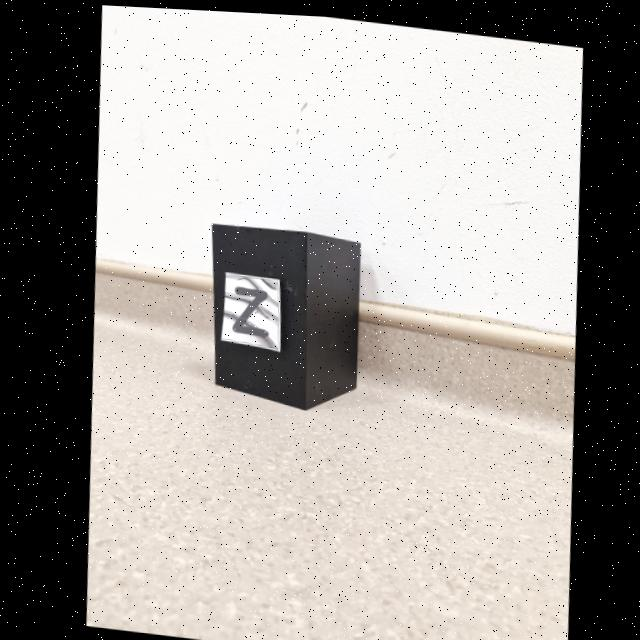Z: (230, 284, 265, 335)
